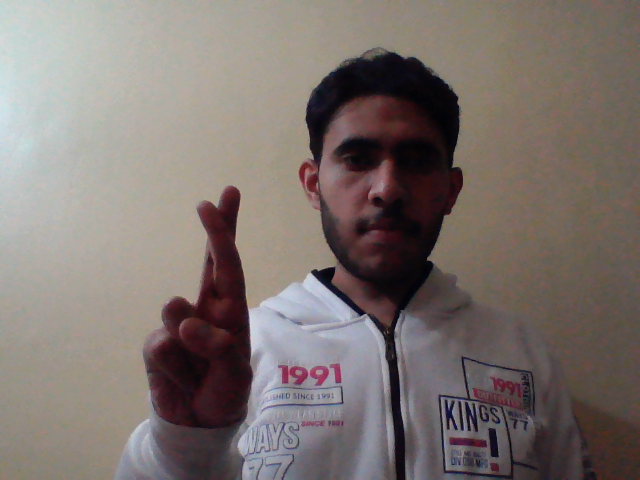R: (144, 183, 254, 436)
